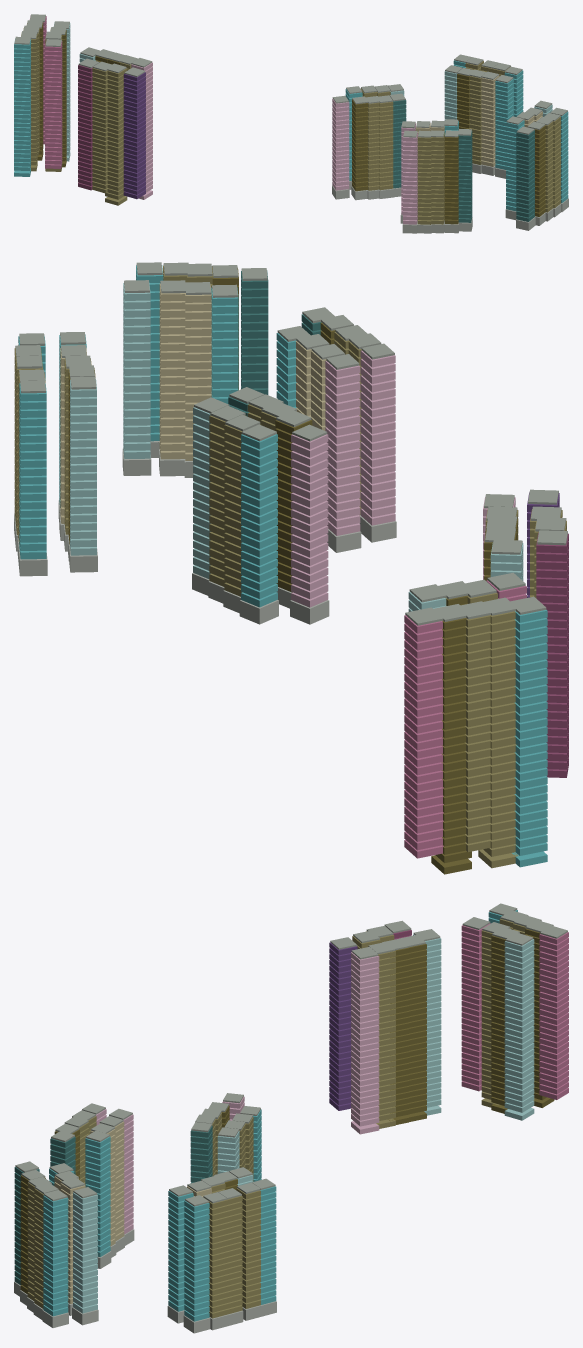
File: towers.glb
3 views of the same model, one above another, from view 1: azimuth 30°, elevation 25°; view 2: azimuth 150°, elevation 25°; view 3: azimuth 270°, elevation 25° (orthographic). The views are drawn at different scales.
Visible parts, largest first — view 1: structure, stack:19, stack:20, stack:28, stack:36, stack:21, stack:22, stack:05, stack:45, stack:44, stack:52, stack:14 (+25 smaller); view 2: structure, stack:32, stack:28, stack:29, stack:45, stack:37, stack:31, stack:14, stack:30, stack:22, stack:15, stack:46 (+17 smaller); view 3: structure, stack:33, stack:27, stack:32, stack:19, stack:36, stack:24, stack:26, stack:50, stack:01, stack:09, stack:23 (+22 smaller).
Part boxes in pixels (bbox=[...]): structure: bbox=[14, 14, 568, 233]; stack:19: bbox=[123, 72, 145, 199]; stack:20: bbox=[105, 68, 127, 205]; stack:28: bbox=[14, 39, 31, 176]; stack:36: bbox=[45, 40, 62, 168]; stack:21: bbox=[92, 68, 107, 193]; stack:22: bbox=[78, 65, 92, 190]; stack:05: bbox=[516, 130, 534, 221]; stack:45: bbox=[332, 98, 349, 190]; stack:44: bbox=[352, 99, 368, 191]; stack:52: bbox=[481, 75, 499, 166]; stack:14: bbox=[403, 132, 417, 224]; structure: bbox=[14, 262, 567, 625]; stack:32: bbox=[404, 615, 443, 858]; stack:28: bbox=[512, 609, 547, 867]; stack:29: bbox=[478, 611, 518, 868]; stack:45: bbox=[291, 434, 328, 607]; stack:37: bbox=[241, 434, 277, 607]; stack:31: bbox=[431, 618, 471, 874]; stack:14: bbox=[360, 350, 395, 525]; stack:30: bbox=[465, 615, 494, 852]; stack:22: bbox=[536, 532, 568, 777]; stack:15: bbox=[325, 361, 360, 535]; stack:46: bbox=[19, 383, 46, 559]; structure: bbox=[14, 903, 567, 1333]; stack:33: bbox=[504, 939, 534, 1120]; stack:27: bbox=[351, 952, 379, 1134]; stack:32: bbox=[539, 932, 568, 1099]; stack:19: bbox=[329, 942, 357, 1110]; stack:36: bbox=[461, 923, 490, 1091]; stack:24: bbox=[405, 944, 426, 1121]; stack:26: bbox=[376, 951, 395, 1128]; stack:50: bbox=[184, 1200, 209, 1321]; stack:01: bbox=[43, 1195, 68, 1316]; stack:09: bbox=[73, 1192, 97, 1313]; stack:23: bbox=[413, 934, 441, 1115].
Size of the model in its own units: 297 by 96.45 by 275.
